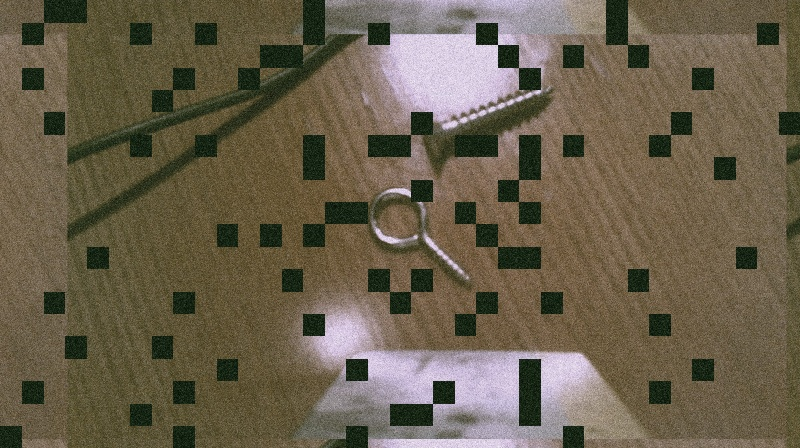O001: (365, 185, 480, 290)
S001: (417, 83, 555, 163)
